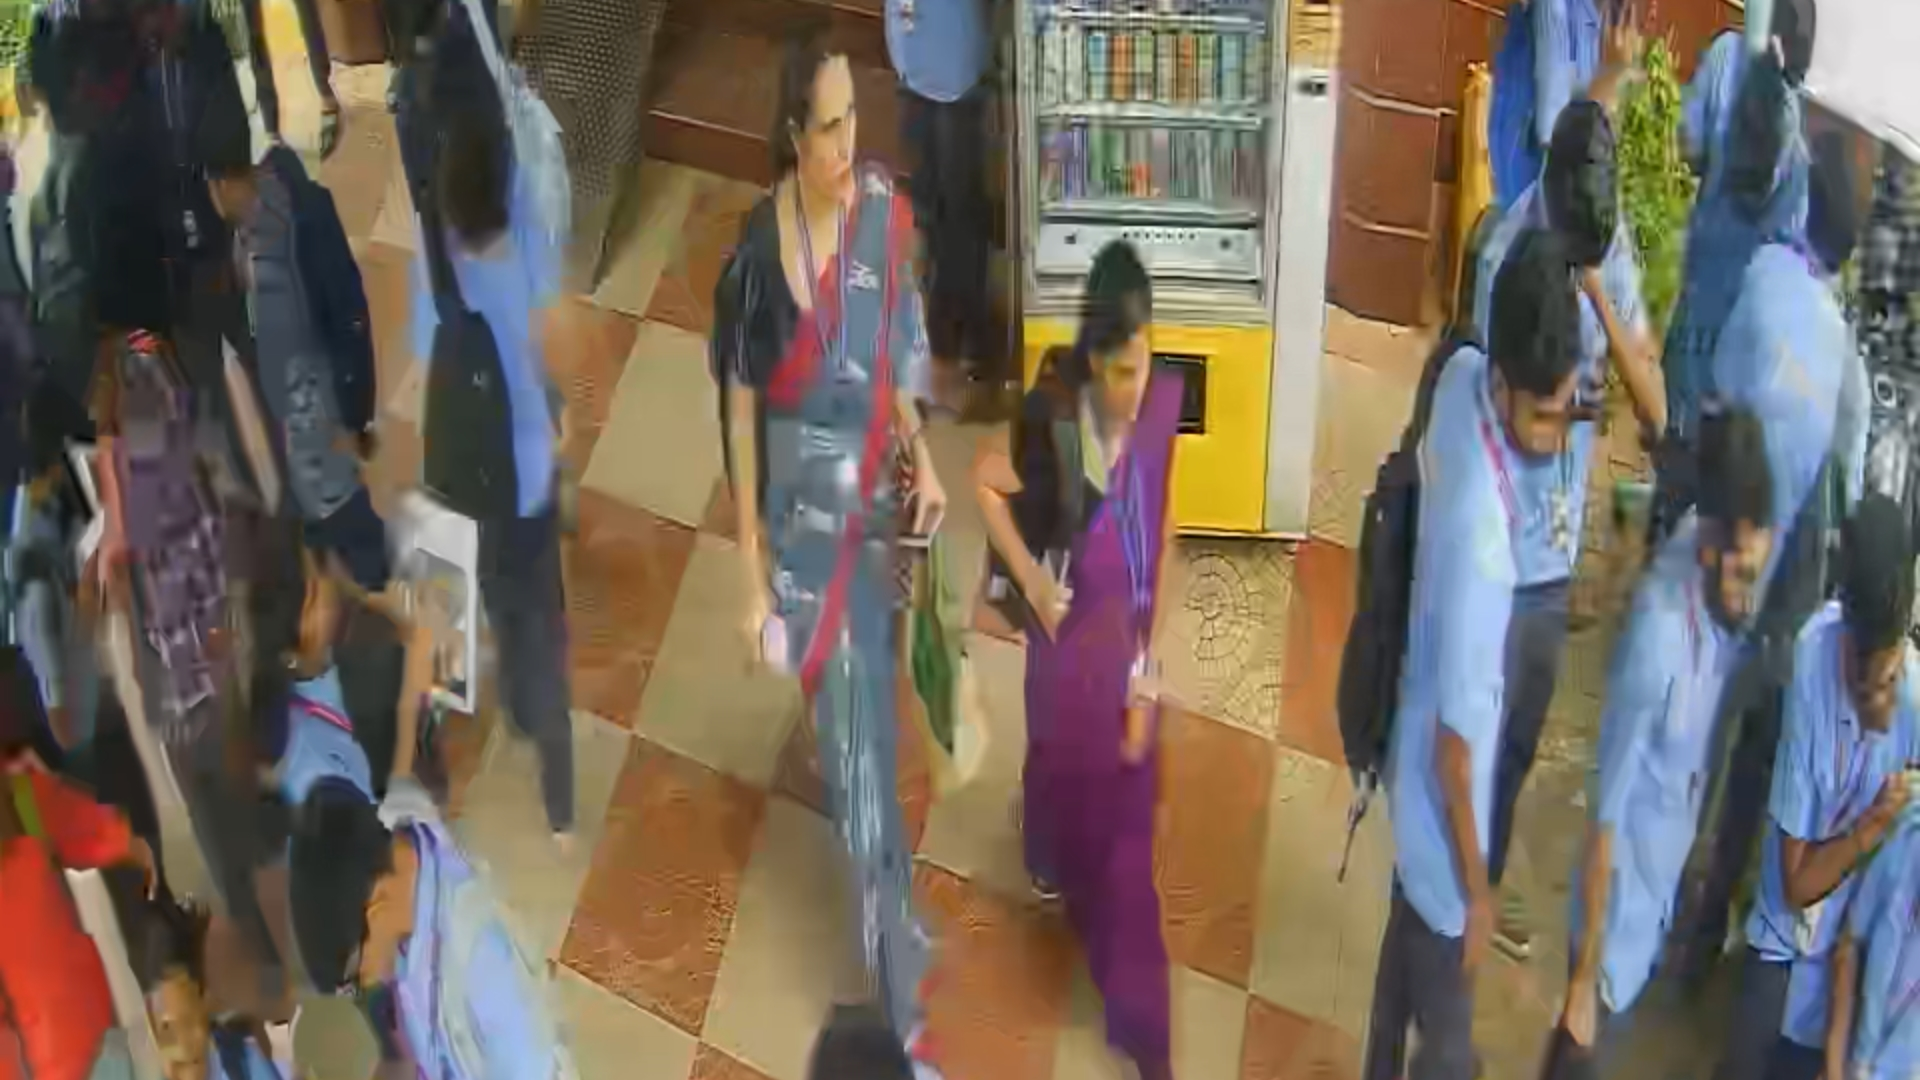not intruder: (712, 26, 982, 1080), (990, 214, 1240, 1080)
